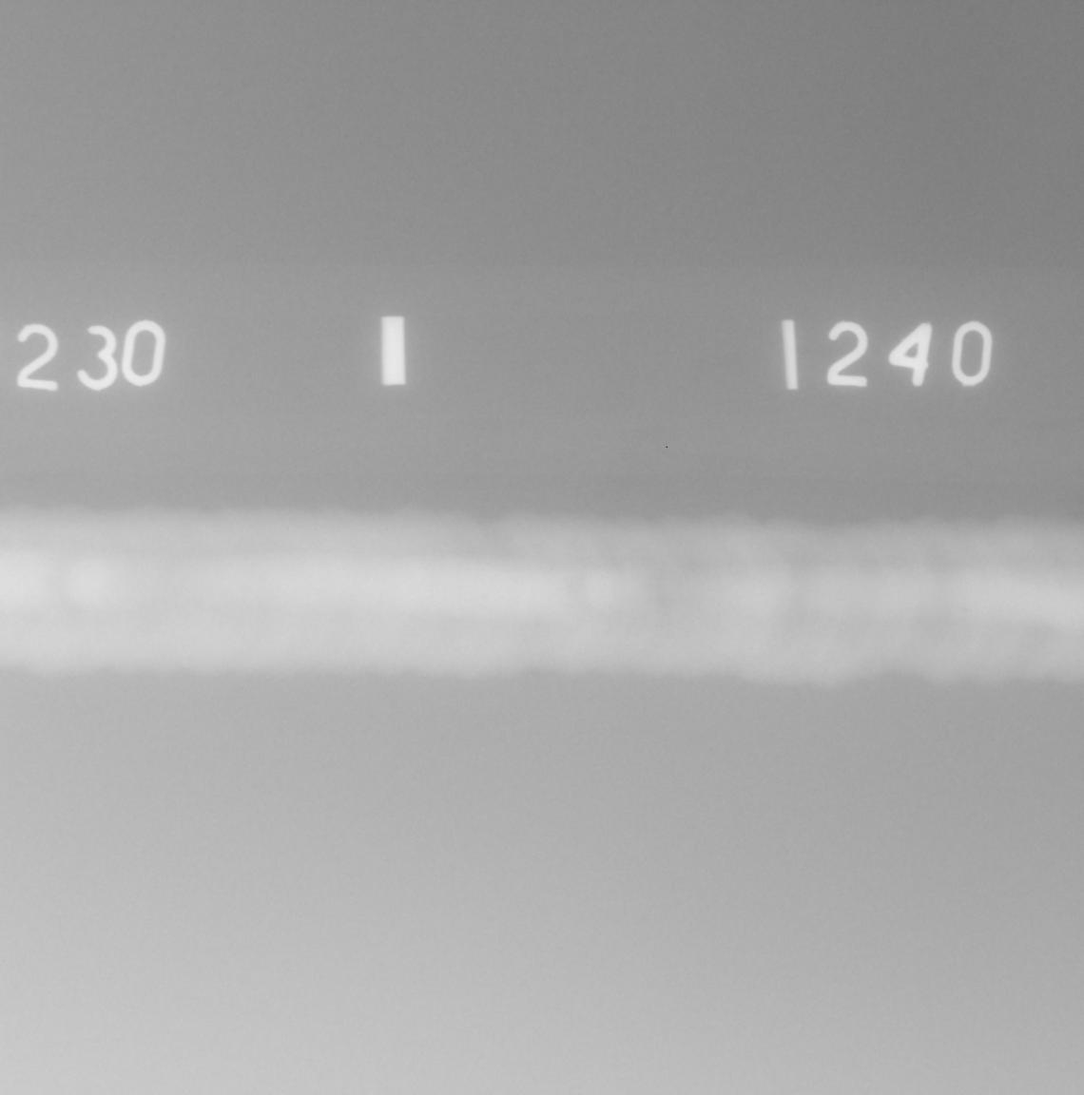Inclusion: (482, 594, 487, 599)
Pore/Porosity: (961, 607, 966, 613)
